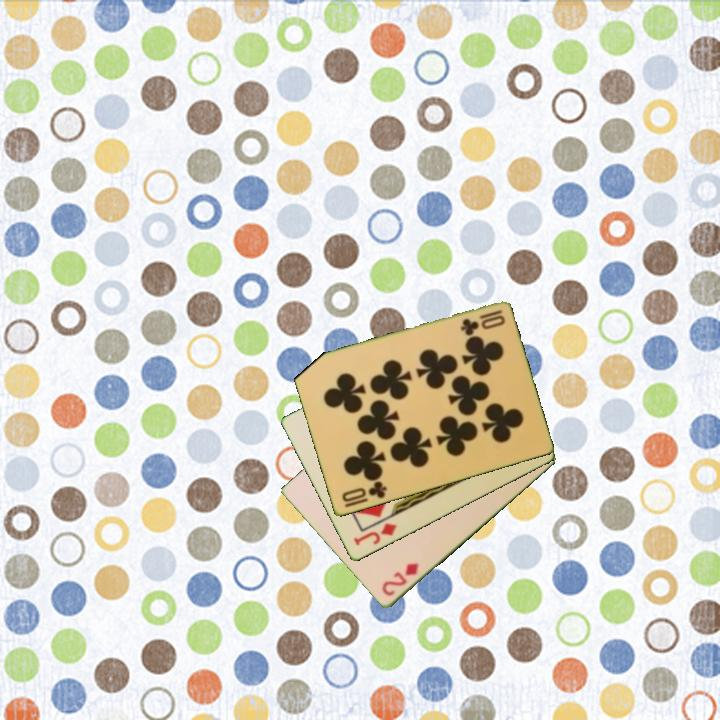10c: (457, 307, 508, 338), (338, 478, 390, 505)
2d: (378, 560, 422, 600)
Jd: (350, 520, 400, 549)
